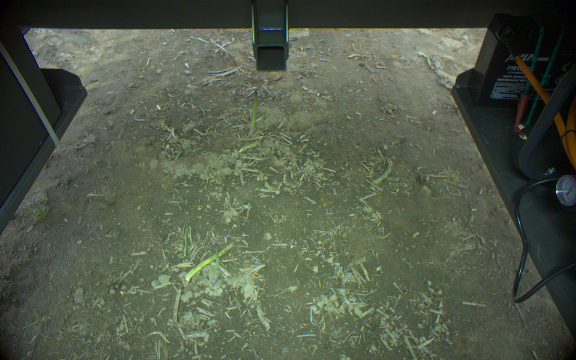aspa: (186, 242, 236, 282), (371, 157, 394, 186), (248, 89, 260, 137), (212, 242, 220, 284), (237, 141, 258, 153)
